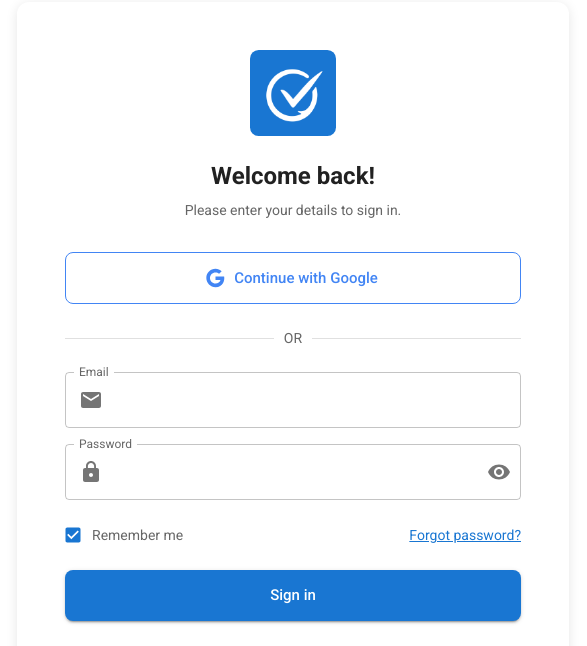
Authentication › Login Form Display › should toggle to forgot password mode
The width and height of the screenshot is (587, 646).
Click the button "Forgot password?" at (465, 535), box [409, 525, 521, 545]
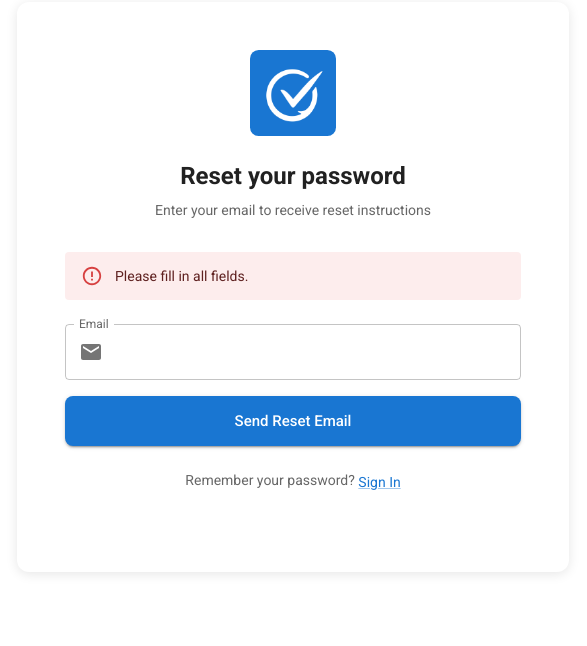
Now the heading "Reset your password" is shown, box [180, 162, 406, 190]
Now the password field is gone
Now the button "Send Reset Email" is shown, box [65, 396, 521, 446]
